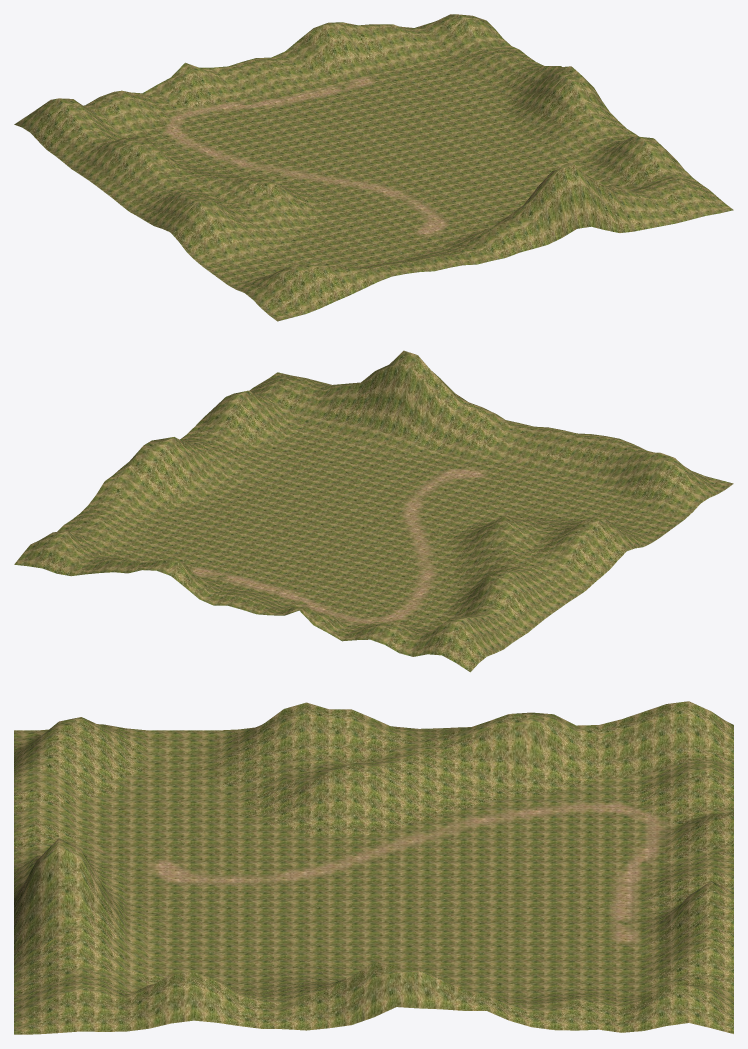
3 views of the same model, one above another, from view 1: azimuth 30°, elevation 25°; view 2: azimuth 150°, elevation 25°; view 3: azimuth 270°, elevation 25° (orthographic). The views are drawn at different scales.
Visible parts, largest first — view 1: Mesh; view 2: Mesh; view 3: Mesh.
Part boxes in pixels (left/top/right/bottom): Mesh: left=14, top=14, right=733, bottom=321; Mesh: left=14, top=350, right=733, bottom=672; Mesh: left=14, top=701, right=733, bottom=1034.
Bounding box in the file's own units: 150 × 21.64 × 150.
Materials: 1 (1 with a texture image).
